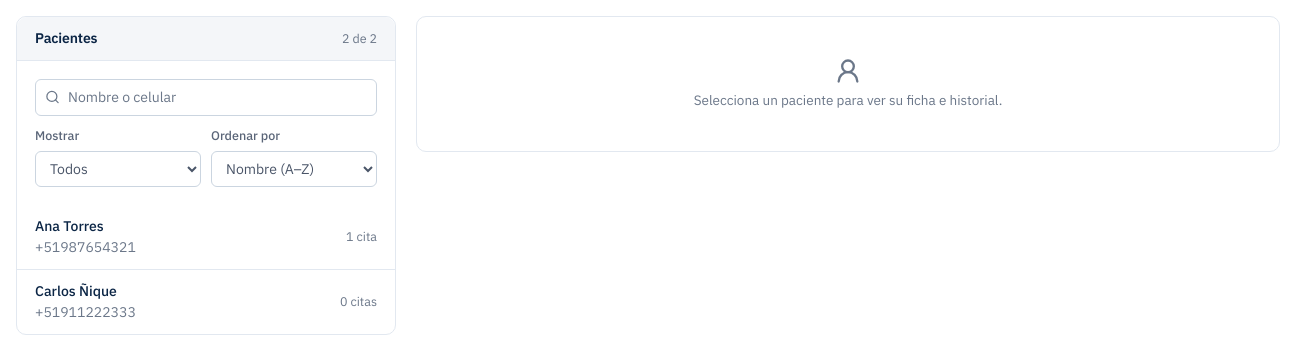
Test: Módulo de Pacientes › filtra por pacientes sin citas y limpia los filtros
This screenshot has width=1297, height=352.
Select "Sin citas" in the dropdown with test id "select-filtro-paciente" at (118, 168), box [35,150,201,186]
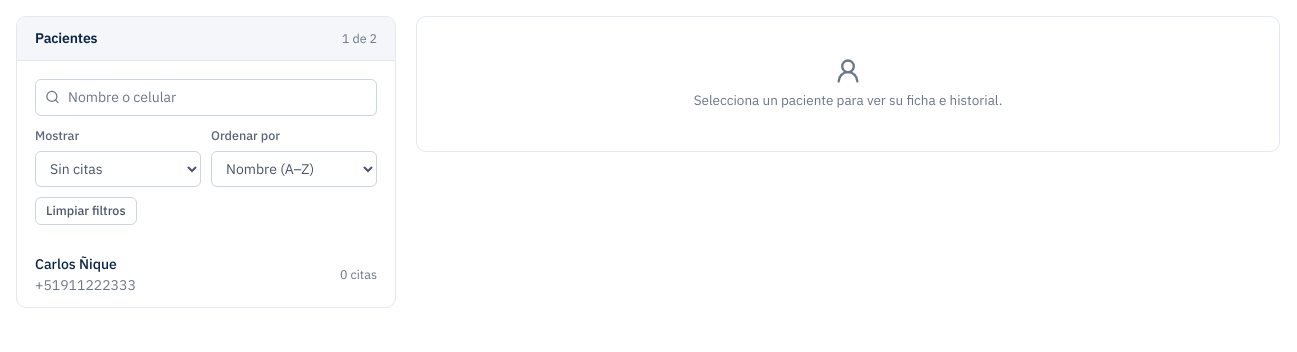
Expected: the text "Carlos Ñique" is shown, [35,254,117,272]
Expected: the number of buttons with test id "paciente-item" is 1, [17,242,395,306]
Click the button with test id "btn-limpiar-filtros-paciente".
click(86, 210)  # box [35,196,137,224]
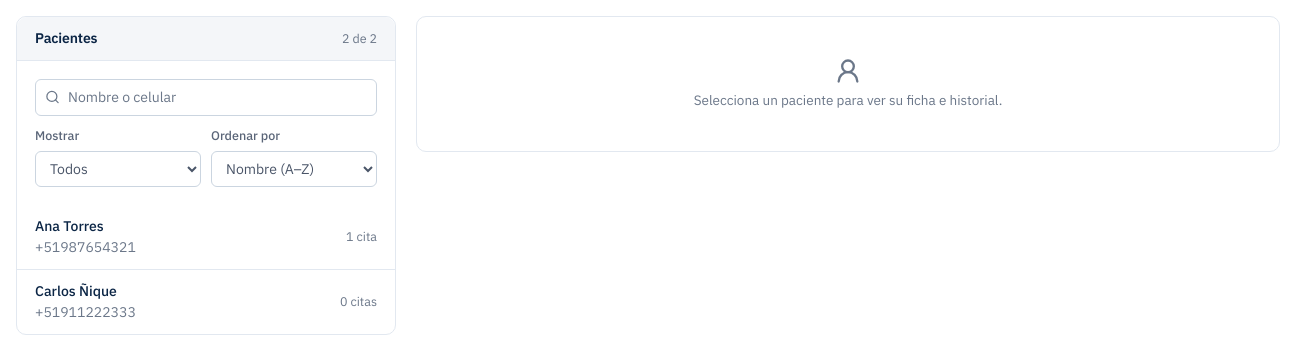
Expected: the number of buttons with test id "paciente-item" is 2, [17,204,395,270]; [17,270,395,334]
